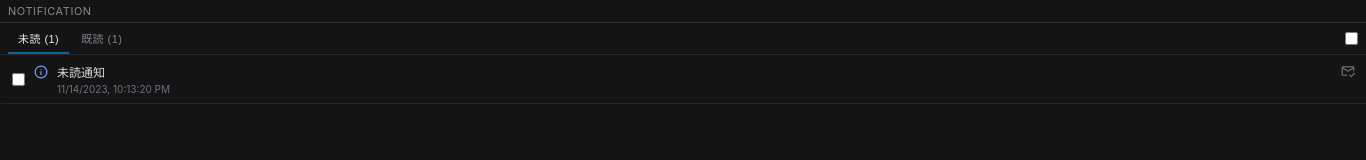
NotificationView › shows only unread on the unread tab and only read on the read tab
This screenshot has width=1366, height=160.
Expected: the text "未読通知" is shown, [57,65,105,80]
Expected: the text "既読通知" is not shown
Click the tab "既読 (1)". click: {"x": 102, "y": 38}
box: [71,23,132,54]
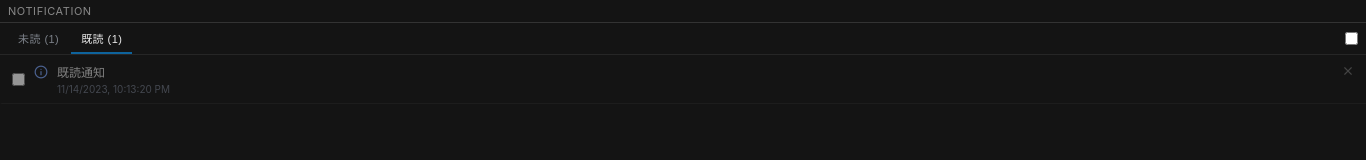
Result: the text "既読通知" is shown at [57,65,105,80]
Result: the text "未読通知" is gone
